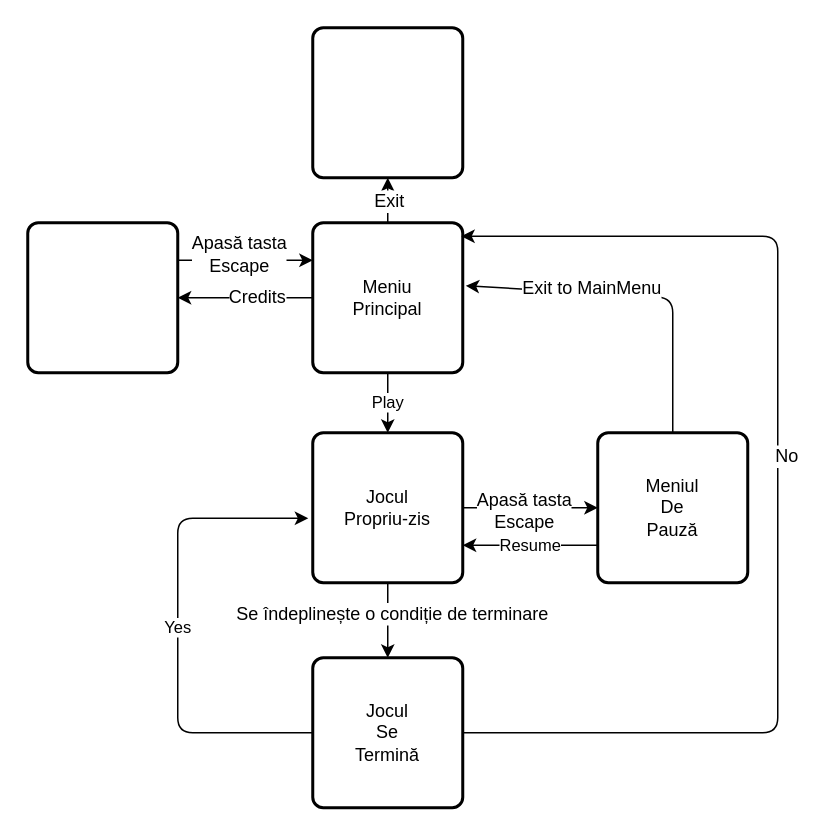
This 824x834 diagram has some shape labels left out. Here are the shapes that lost their labels. From the top down, the box of each, then its label:
(310, 26, 464, 178): Părăsește Aplicația
(26, 220, 178, 374): Ecranul De Credite
